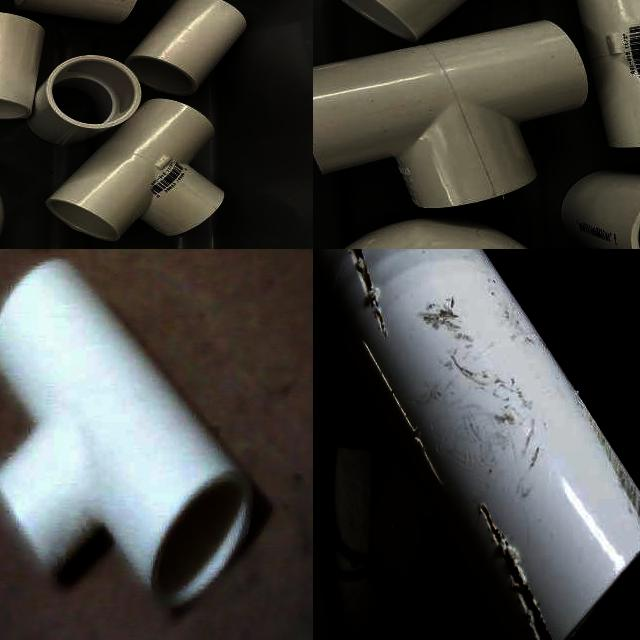Defective: (358, 354, 440, 491), (477, 507, 554, 640), (599, 426, 640, 528), (351, 249, 378, 309)
T Joint: (313, 249, 640, 640), (313, 21, 589, 210), (45, 98, 224, 243)
